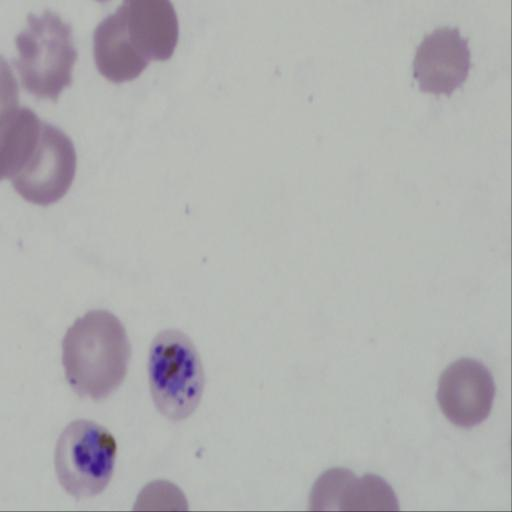Infected: (53, 421, 118, 500), (148, 329, 203, 421)
Uninfected: (62, 308, 130, 402), (14, 13, 76, 98), (412, 24, 470, 96), (437, 359, 495, 425), (124, 0, 179, 63)
